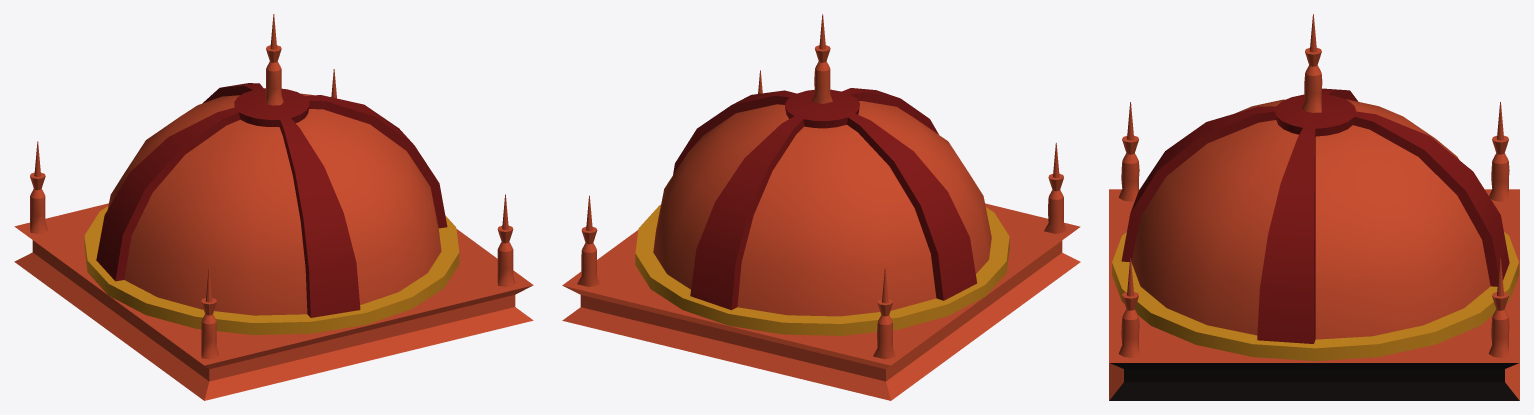
Rendered from Dome2.FBX.
3 renders of one model, left to right at view 1: azimuth 30°, elevation 25°; view 2: azimuth 150°, elevation 25°; view 3: azimuth 270°, elevation 25°, orthographic. The views are drawn at different scales.
Parts seen in each view (by area): view 1: Dome-2; view 2: Dome-2; view 3: Dome-2.
Part boxes in pixels (x1,y1,x2,y2): Dome-2: [14, 14, 533, 400]; Dome-2: [562, 14, 1080, 400]; Dome-2: [1109, 14, 1519, 400].
Size of the model in its own units: 709 by 570 by 709.
